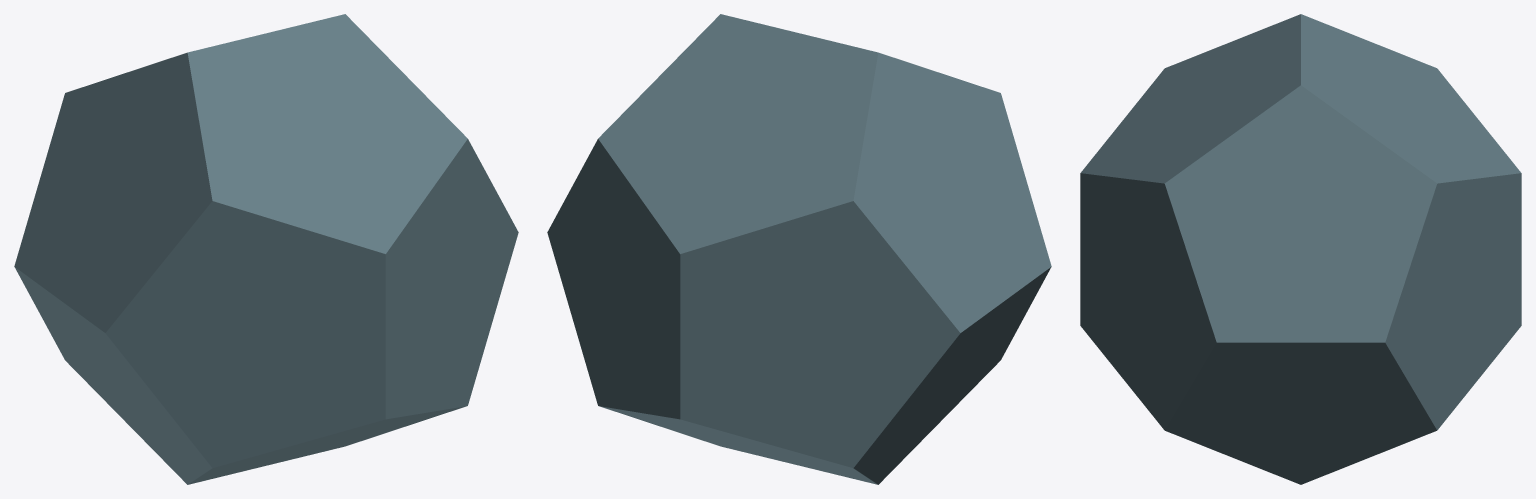
The model's file is dodeca.glb.
3 renders of one model, left to right at view 1: azimuth 30°, elevation 25°; view 2: azimuth 150°, elevation 25°; view 3: azimuth 270°, elevation 25°, orthographic. The views are drawn at different scales.
Parts seen in each view (by area): view 1: Dodeca; view 2: Dodeca; view 3: Dodeca.
Part boxes in pixels (<box>): Dodeca: <box>14,14,518,484</box>; Dodeca: <box>547,14,1051,484</box>; Dodeca: <box>1080,14,1521,484</box>.
Size of the model in its own units: 1.87 by 1.87 by 1.87.
